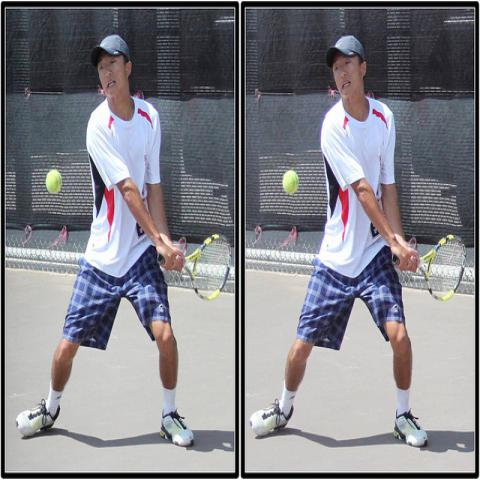car: (411, 16, 474, 228)
